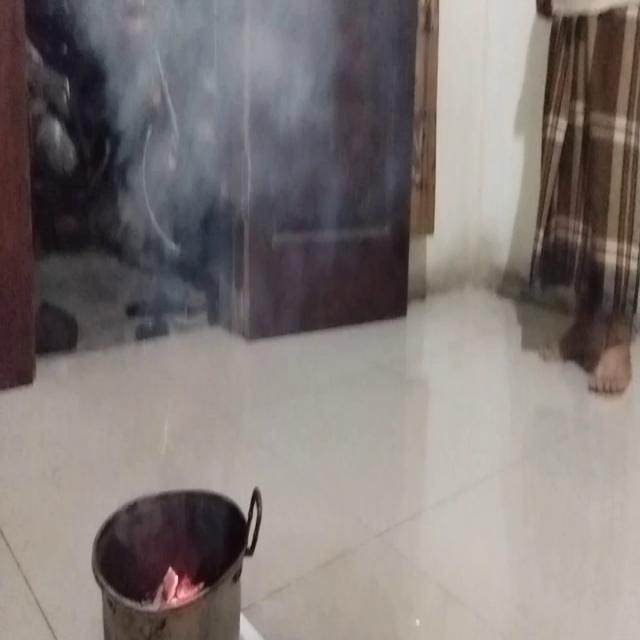smoke: (95, 0, 435, 242)
